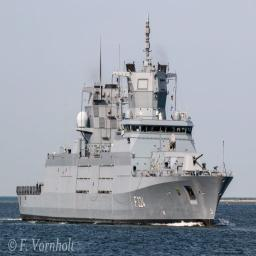Fragata: (17, 9, 236, 231)
